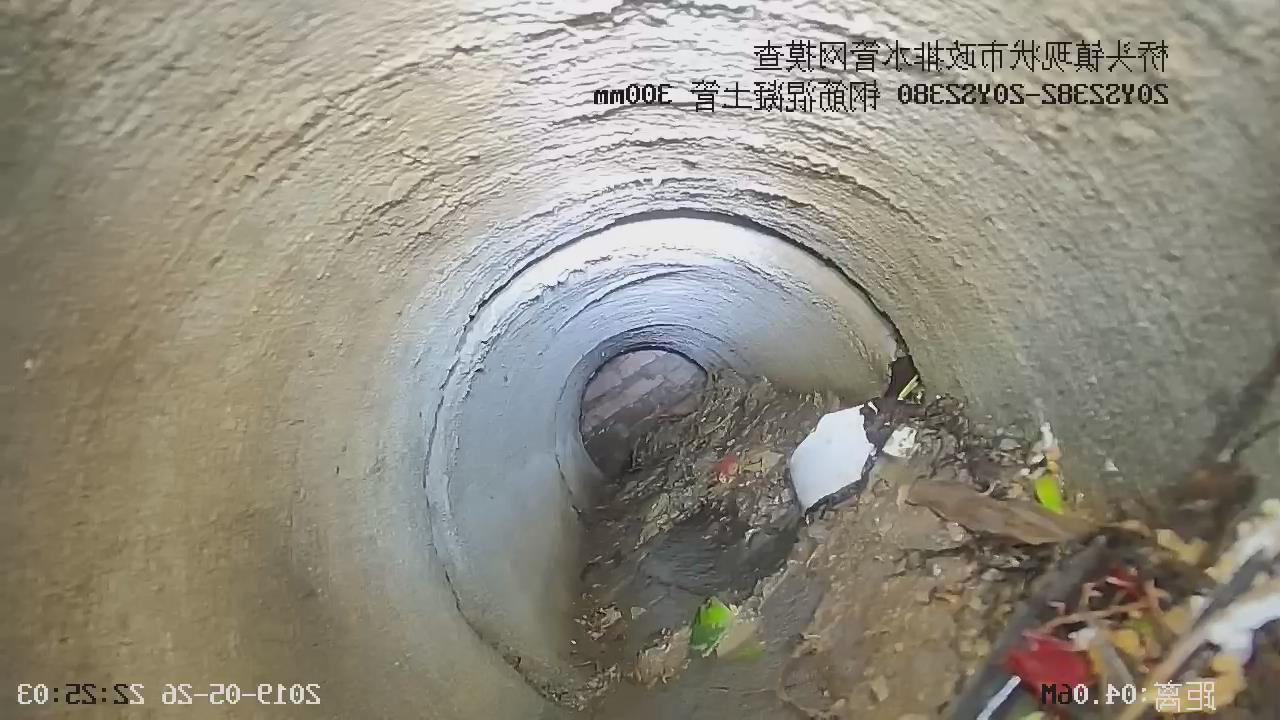CJ: (556, 372, 1280, 719)
CKTJ: (414, 199, 935, 714)
